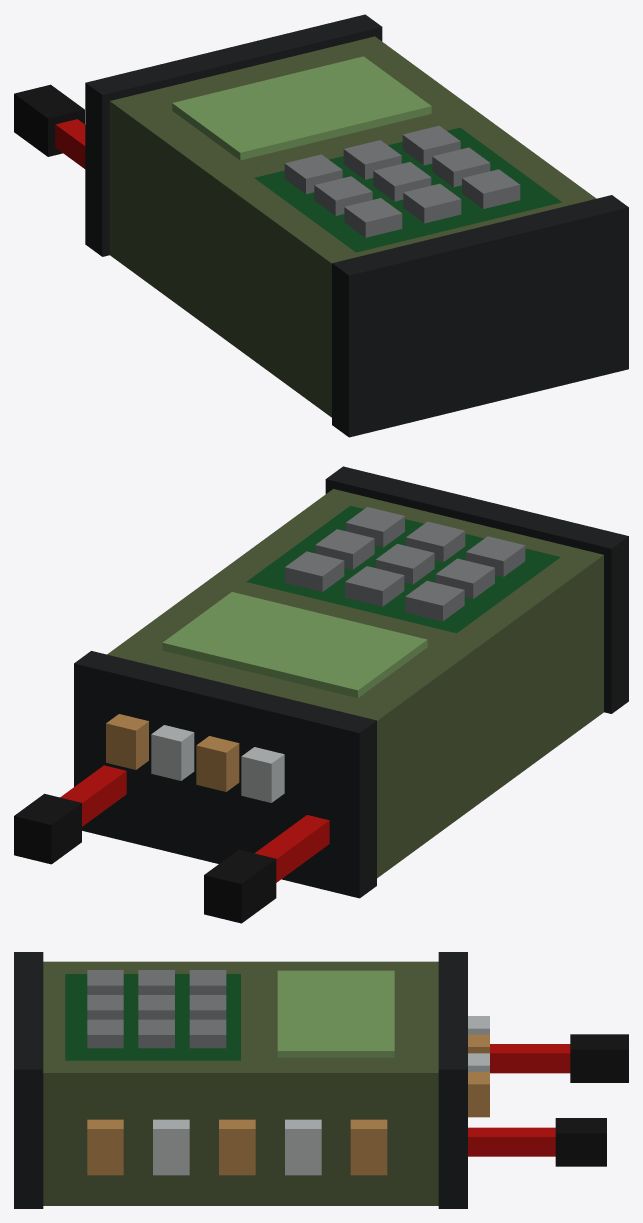
The model's file is electrohack.glb.
3 renders of one model, top to bottom at view 1: azimuth 30°, elevation 25°; view 2: azimuth 150°, elevation 25°; view 3: azimuth 270°, elevation 25°, orthographic. The views are drawn at different scales.
Parts seen in each view (by area): view 1: electrohack:compound; view 2: electrohack:compound; view 3: electrohack:compound.
Boxes of the visible parts, x1,y1,x2,y2 form: electrohack:compound: (14,14,628,437); electrohack:compound: (14,466,628,923); electrohack:compound: (14,952,628,1208).
Bounding box in the file's own units: 0.08 × 0.044 × 0.168.
